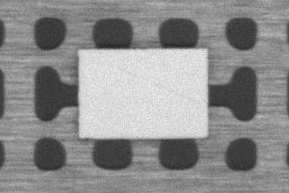DIE_CRACK: (177, 45, 289, 69)
